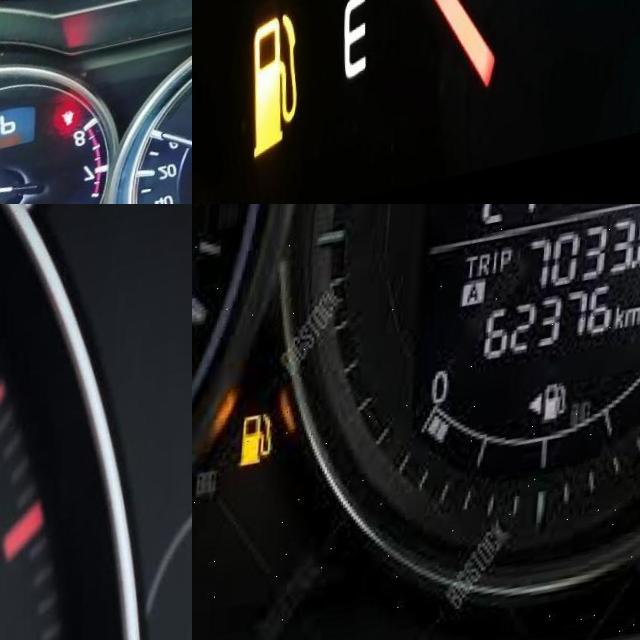Seat Belt: (61, 111, 78, 137)
